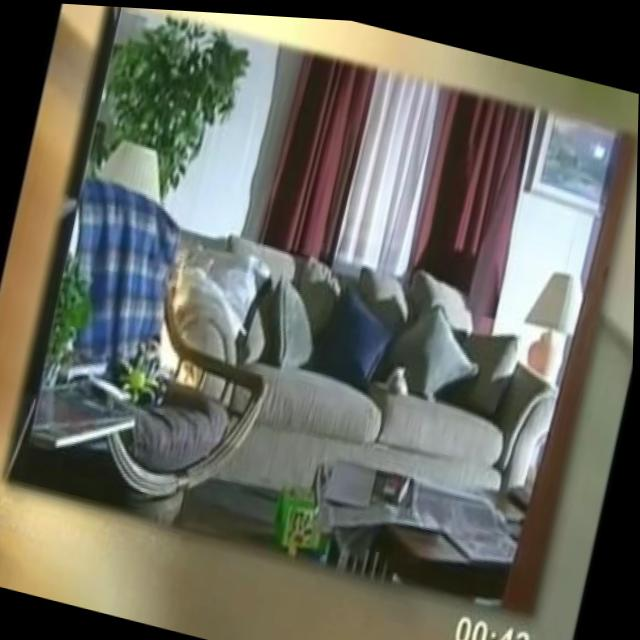fire: (153, 259, 225, 389)
